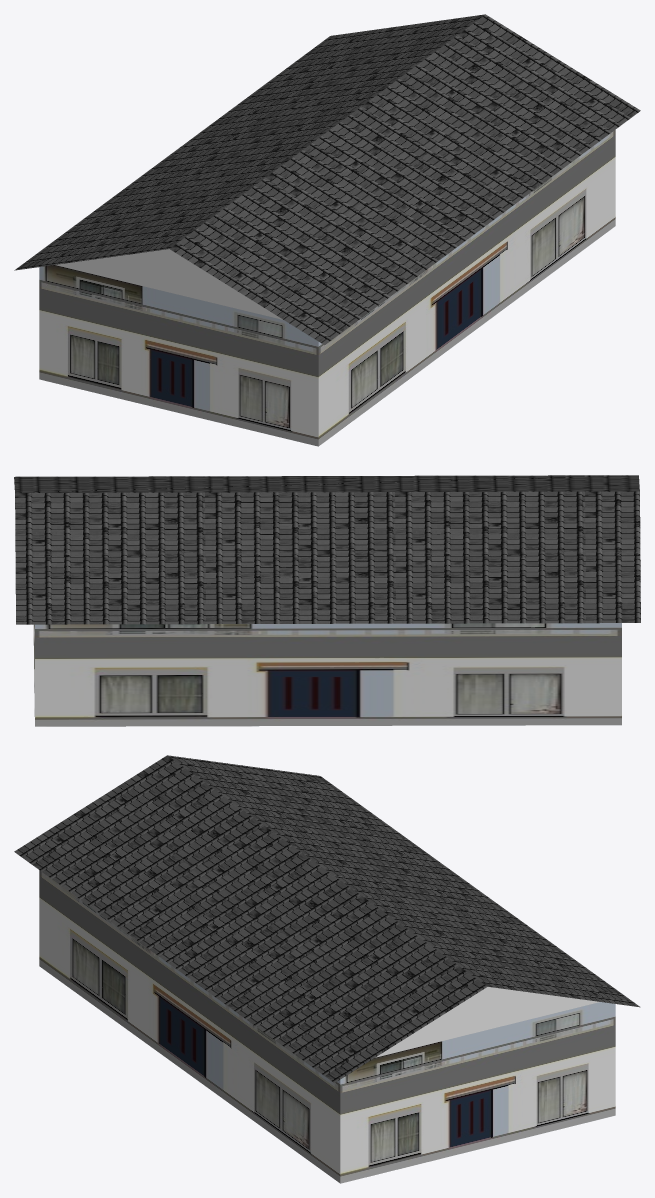
3 renders of one model, top to bottom at view 1: azimuth 30°, elevation 25°; view 2: azimuth 150°, elevation 25°; view 3: azimuth 270°, elevation 25°, orthographic. The views are drawn at different scales.
Parts seen in each view (by area): view 1: CityEngineMaterial_8_m, CityEngineMaterial_7_m, CityEngineMaterial_3_m; view 2: CityEngineMaterial_8_m, CityEngineMaterial_7_m; view 3: CityEngineMaterial_8_m, CityEngineMaterial_7_m, CityEngineMaterial_3_m.
Part boxes in pixels (box(x1,y1,x2,y2)): CityEngineMaterial_8_m: box(14, 14, 640, 345); CityEngineMaterial_7_m: box(39, 130, 615, 446); CityEngineMaterial_3_m: box(56, 249, 282, 319); CityEngineMaterial_8_m: box(14, 475, 640, 624); CityEngineMaterial_7_m: box(33, 623, 621, 726); CityEngineMaterial_8_m: box(14, 755, 640, 1082); CityEngineMaterial_7_m: box(39, 870, 615, 1183); CityEngineMaterial_3_m: box(375, 987, 599, 1057).
Bounding box in the file's own units: 37.68 × 9.72 × 32.49.
